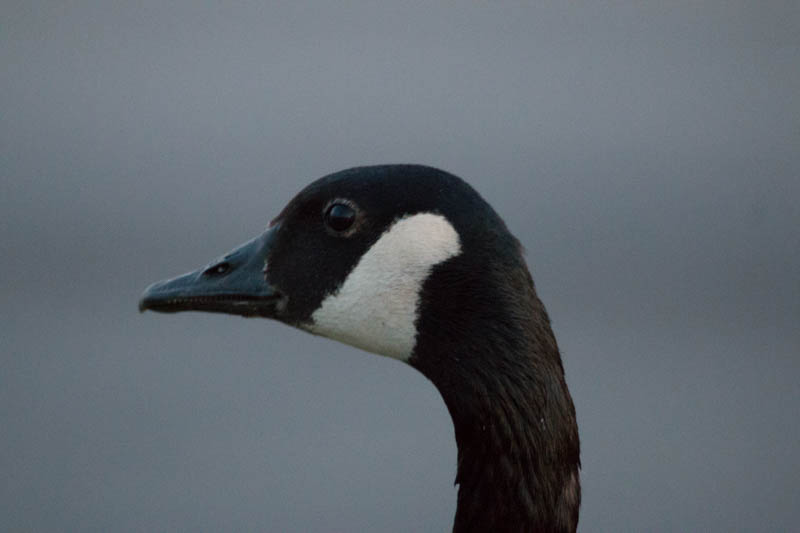goose-head: (136, 161, 560, 363)
